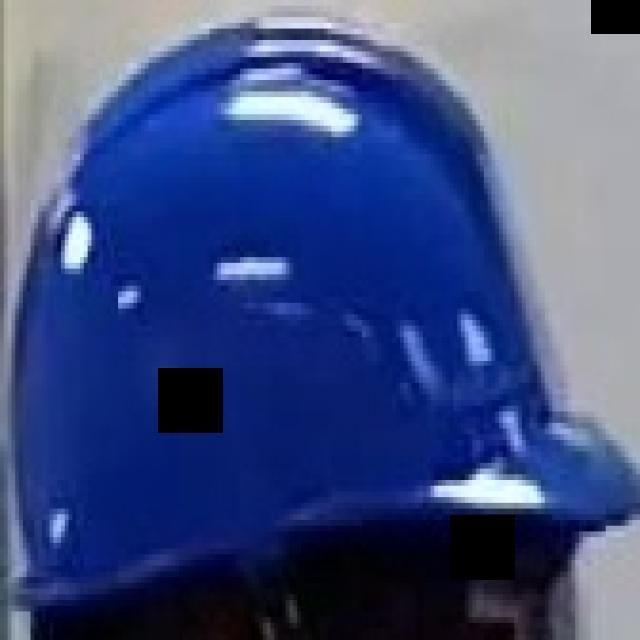blue helmet: (16, 20, 638, 589)
